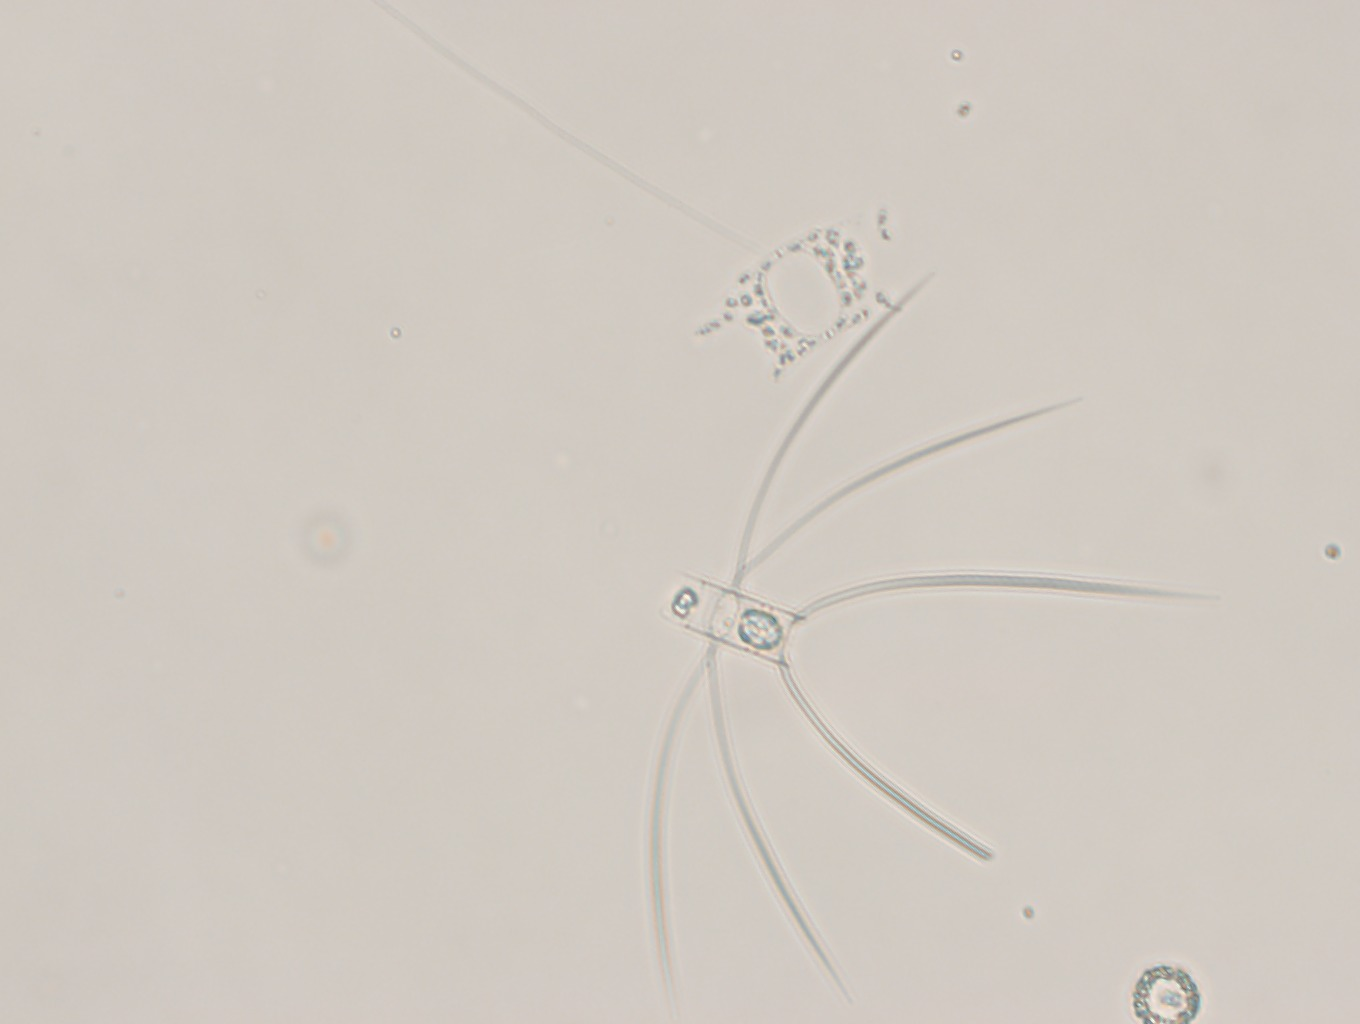chaetoceros: (632, 264, 1228, 985)
eucampia: (686, 186, 908, 379)
